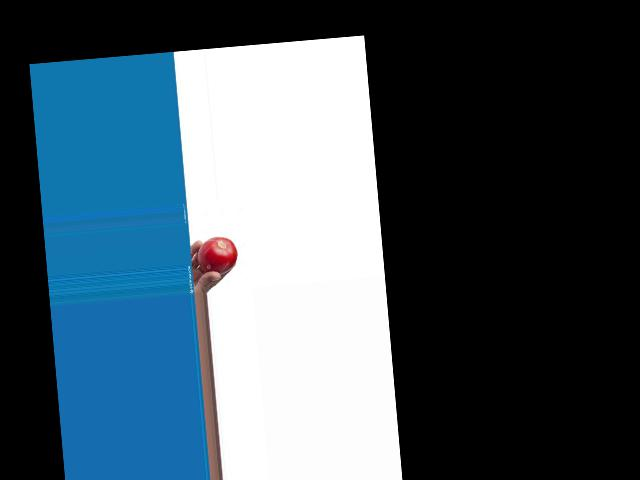tomato: (195, 235, 238, 276)
